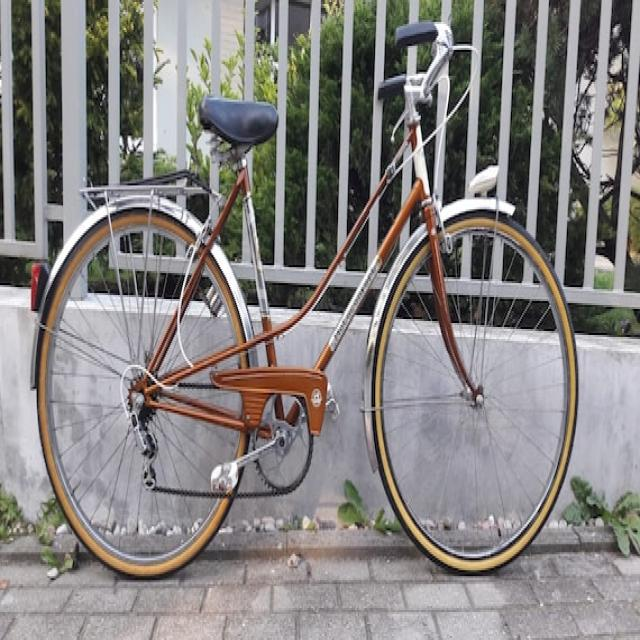urban-bike: (31, 19, 579, 577)
